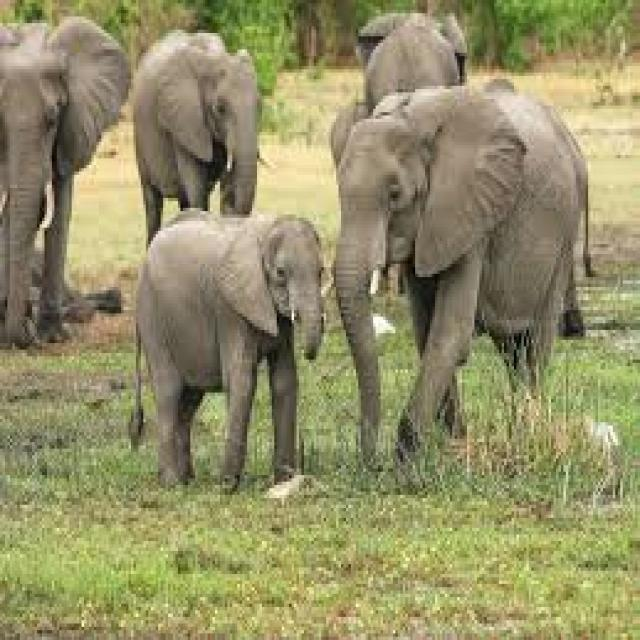elephant: (334, 79, 588, 459), (128, 211, 321, 495), (0, 16, 128, 343), (131, 30, 257, 238)
